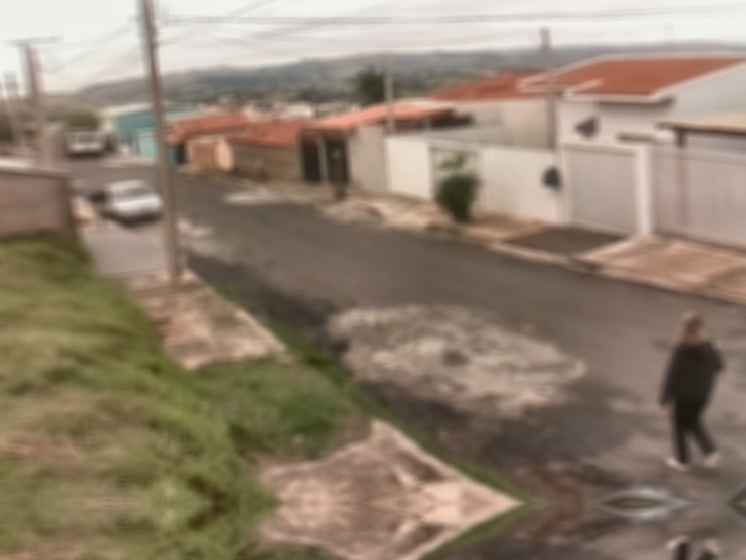person: (657, 311, 725, 474)
